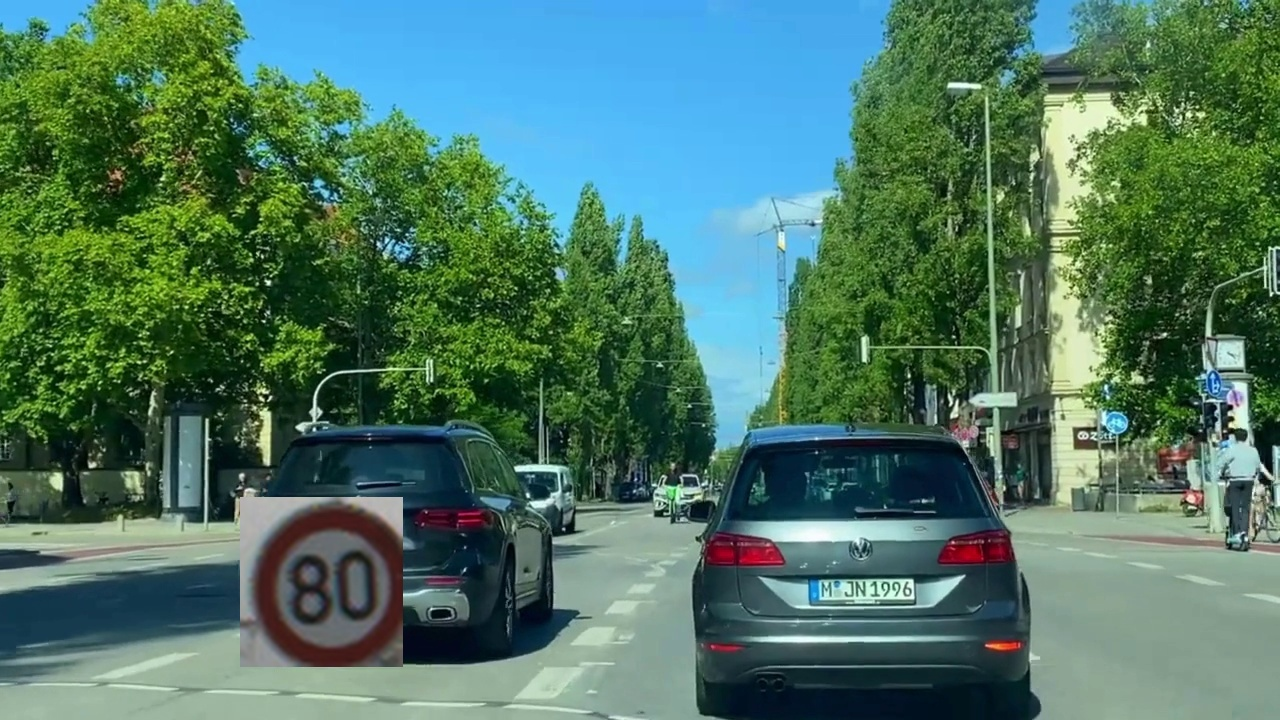Speed 80: (240, 497, 403, 667)
